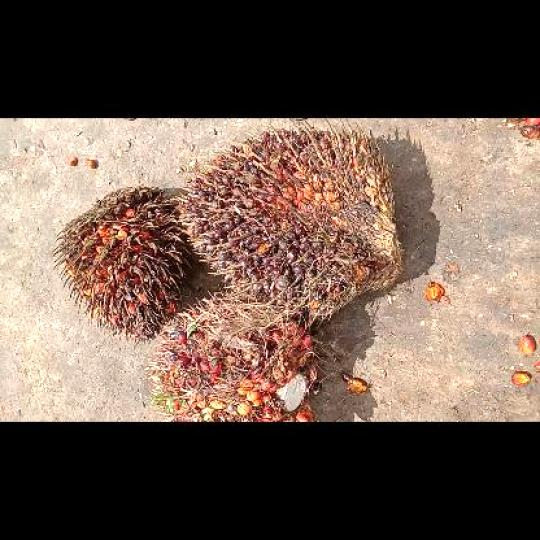kurang masak: (184, 126, 403, 308)
masak: (158, 298, 320, 420)
terlalu masak: (57, 185, 187, 337)
